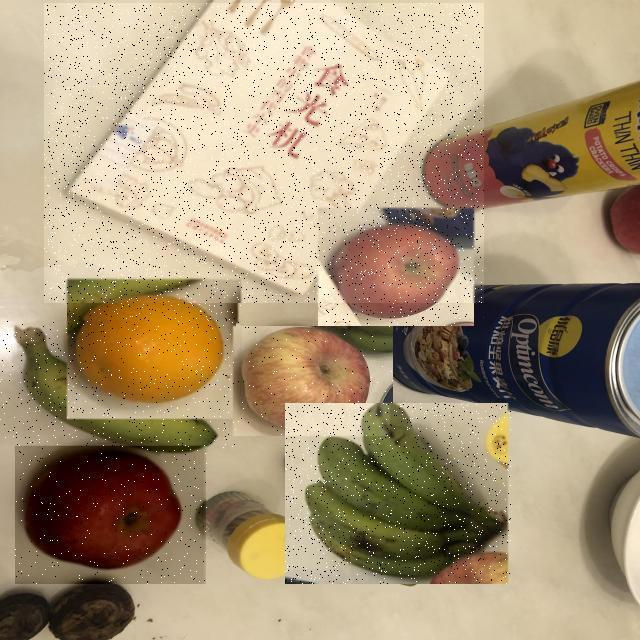Apple: (16, 446, 208, 584), (319, 208, 475, 326), (233, 326, 393, 436)
Banana: (286, 403, 512, 584), (0, 321, 236, 452)
Book: (44, 3, 484, 303)
Orange: (68, 280, 242, 420)
